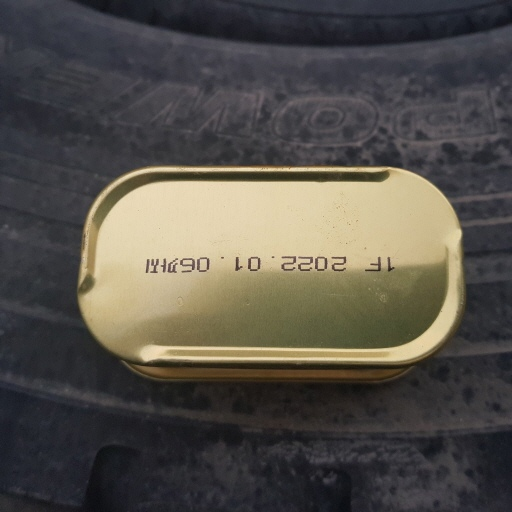Metal_2: (73, 157, 470, 381)
